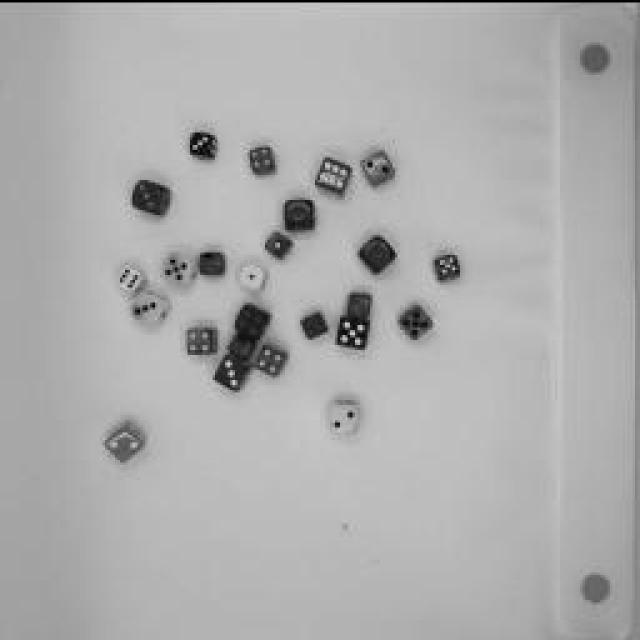dice_1: (285, 194, 315, 234), (240, 260, 270, 290), (265, 232, 295, 258), (228, 335, 258, 355)
dice_2: (102, 419, 148, 461), (325, 395, 365, 430), (360, 148, 395, 188), (348, 290, 372, 315)
dice_3: (355, 232, 400, 272), (130, 179, 175, 211), (215, 355, 253, 390), (132, 290, 168, 325), (189, 124, 221, 156)
dice_4: (254, 341, 291, 374), (185, 323, 220, 355), (249, 140, 279, 175), (235, 308, 275, 332), (199, 246, 226, 276)
dice_5: (400, 300, 435, 340), (162, 250, 198, 282), (338, 315, 372, 347), (435, 250, 465, 282), (301, 308, 331, 338)
dice_6: (316, 154, 354, 194), (118, 260, 148, 290)
